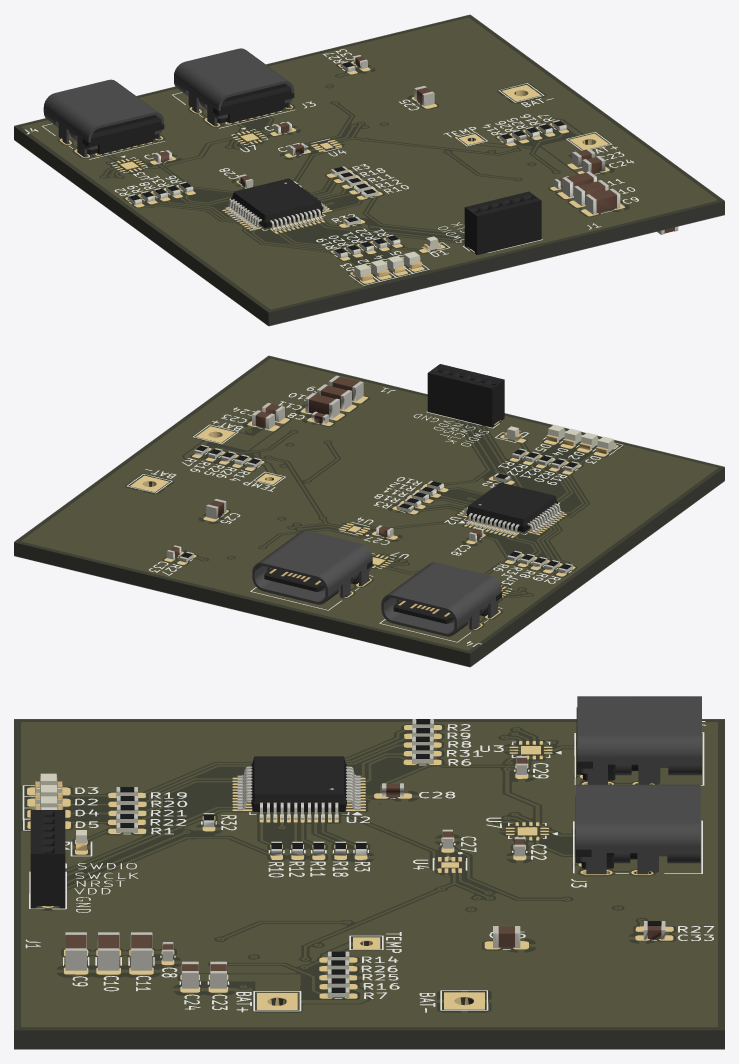
Rendered from battery-pcb.glb.
3 views of the same model, one above another, from view 1: azimuth 30°, elevation 25°; view 2: azimuth 150°, elevation 25°; view 3: azimuth 270°, elevation 25° (orthographic). The views are drawn at different scales.
Visible parts, largest first — view 1: C11, =>[0:1:1:18]; view 2: C11, =>[0:1:1:18]; view 3: C11, =>[0:1:1:18].
Boxes of the visible parts, left/top/right/bottom form: C11: left=14, top=15, right=724, bottom=325; =>[0:1:1:18]: left=14, top=14, right=724, bottom=326; C11: left=14, top=356, right=724, bottom=666; =>[0:1:1:18]: left=14, top=355, right=724, bottom=667; C11: left=14, top=696, right=724, bottom=1048; =>[0:1:1:18]: left=14, top=719, right=724, bottom=1049.
Size of the model in its own units: 0.0539 by 0.00768 by 0.0521.
2 materials, 2 textured.
